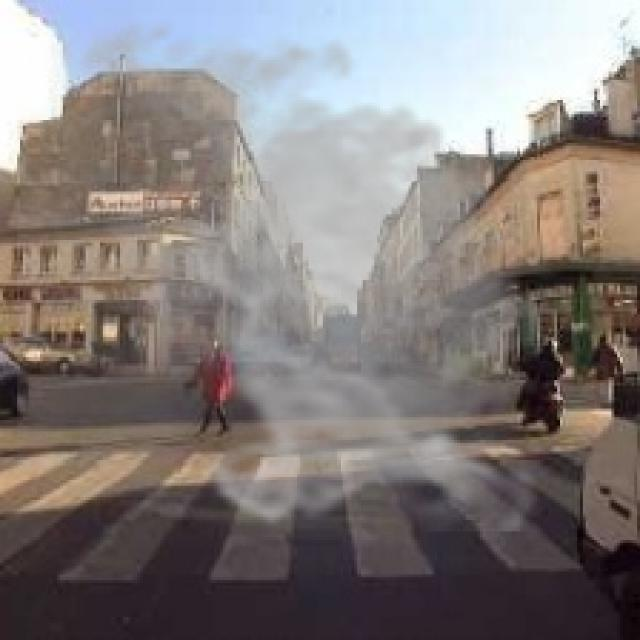Smoke: (17, 6, 566, 532)
